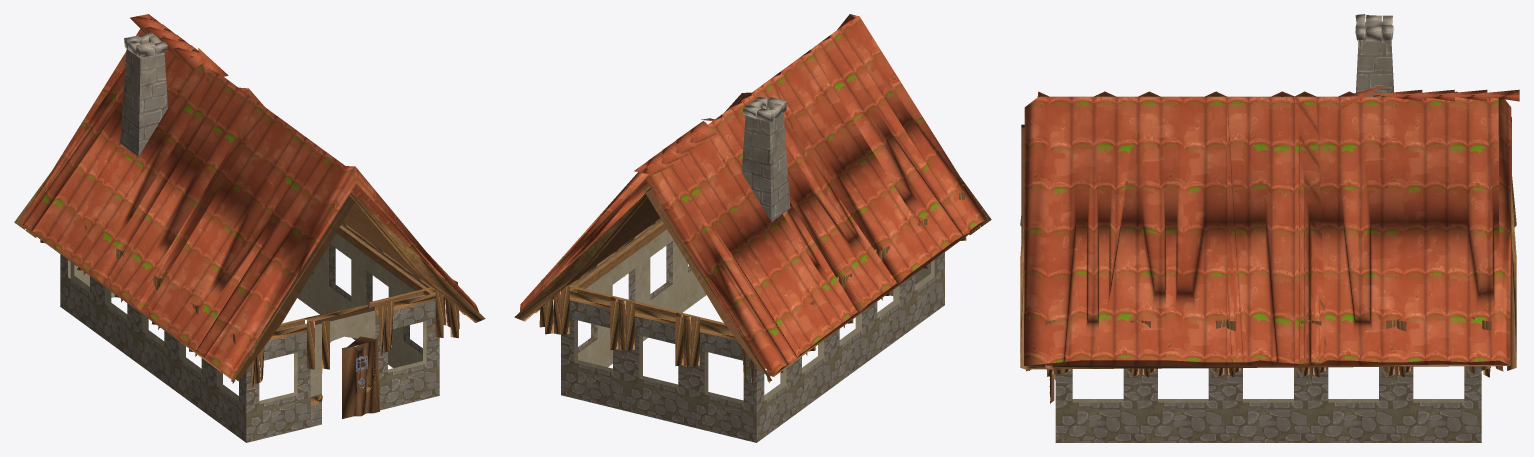
Rendered from Warehouse.low.gltf.
3 views of the same model, side by side, from view 1: azimuth 30°, elevation 25°; view 2: azimuth 150°, elevation 25°; view 3: azimuth 270°, elevation 25° (orthographic). The views are drawn at different scales.
Visible parts, largest first — view 1: Roof_RoundTiles_6x10, Wall_UnevenBrick_Window_Wide_Flat (×11), Prop_Chimney, Door_2_Round, Wall_Plaster_Door_Round, WindowShutters_Wide_Flat_Open (×2); view 2: Roof_RoundTiles_6x10, Wall_UnevenBrick_Window_Wide_Flat (×12), Prop_Chimney, WindowShutters_Wide_Flat_Open (×3); view 3: Roof_RoundTiles_6x10, Wall_UnevenBrick_Window_Wide_Flat (×5), Prop_Chimney.
Part boxes in pixels (bbox=[...]): Roof_RoundTiles_6x10: bbox=[14, 14, 485, 381]; Wall_UnevenBrick_Window_Wide_Flat (×11): bbox=[60, 222, 439, 442]; Prop_Chimney: bbox=[120, 32, 167, 156]; Door_2_Round: bbox=[342, 336, 379, 418]; Wall_Plaster_Door_Round: bbox=[305, 305, 376, 426]; WindowShutters_Wide_Flat_Open (×2): bbox=[249, 289, 458, 387]; Roof_RoundTiles_6x10: bbox=[514, 14, 991, 381]; Wall_UnevenBrick_Window_Wide_Flat (×12): bbox=[561, 218, 944, 442]; Prop_Chimney: bbox=[741, 97, 790, 221]; WindowShutters_Wide_Flat_Open (×3): bbox=[545, 285, 754, 385]; Roof_RoundTiles_6x10: bbox=[1020, 84, 1519, 370]; Wall_UnevenBrick_Window_Wide_Flat (×5): bbox=[1055, 366, 1481, 442]; Prop_Chimney: bbox=[1355, 14, 1393, 96].
Size of the model in its own units: 8.16 by 8.68 by 11.73.
Materials: 7 (7 with a texture image).
